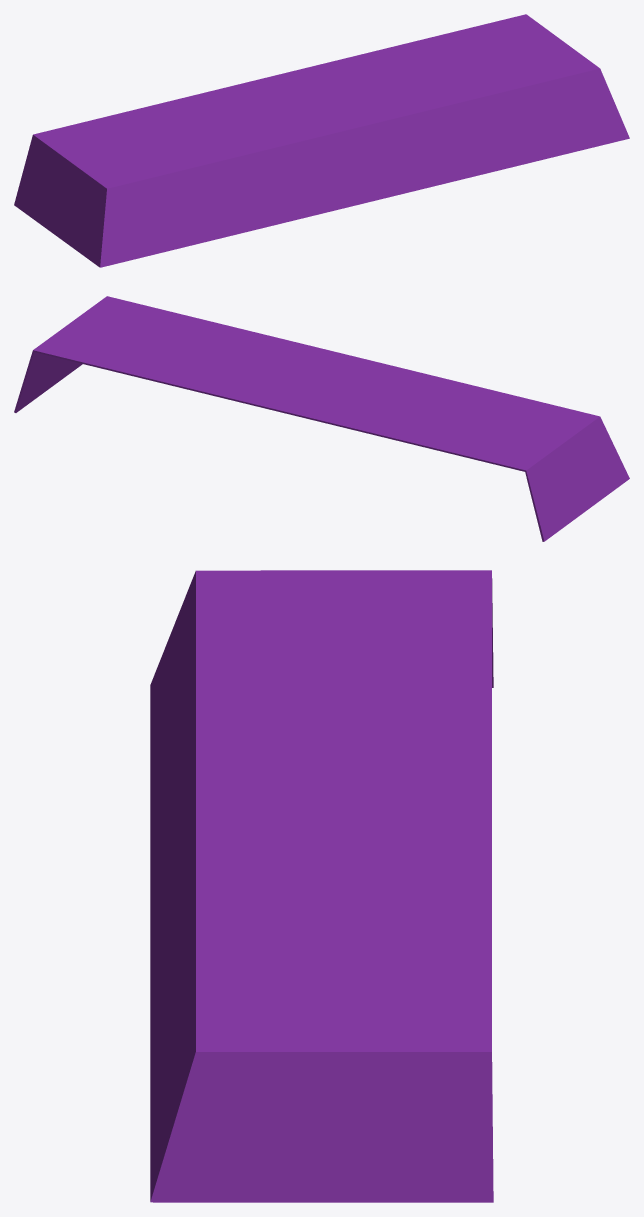
File: SM_storefront_screen_02.fbx
The picture shows the model from 3 angles, top to bottom: view 1: azimuth 30°, elevation 25°; view 2: azimuth 150°, elevation 25°; view 3: azimuth 270°, elevation 25°; orthographic projection. The views are drawn at different scales.
Visible parts, largest first — view 1: Box059; view 2: Box059; view 3: Box059.
Boxes of the visible parts, x1,y1,x2,y2 form: Box059: (14,14,629,267); Box059: (14,296,629,541); Box059: (150,570,493,1202).
Bounding box in the file's own units: 184 × 51.55 × 22.23.
